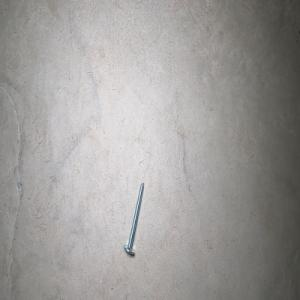Bolt: (123, 180, 144, 255)
